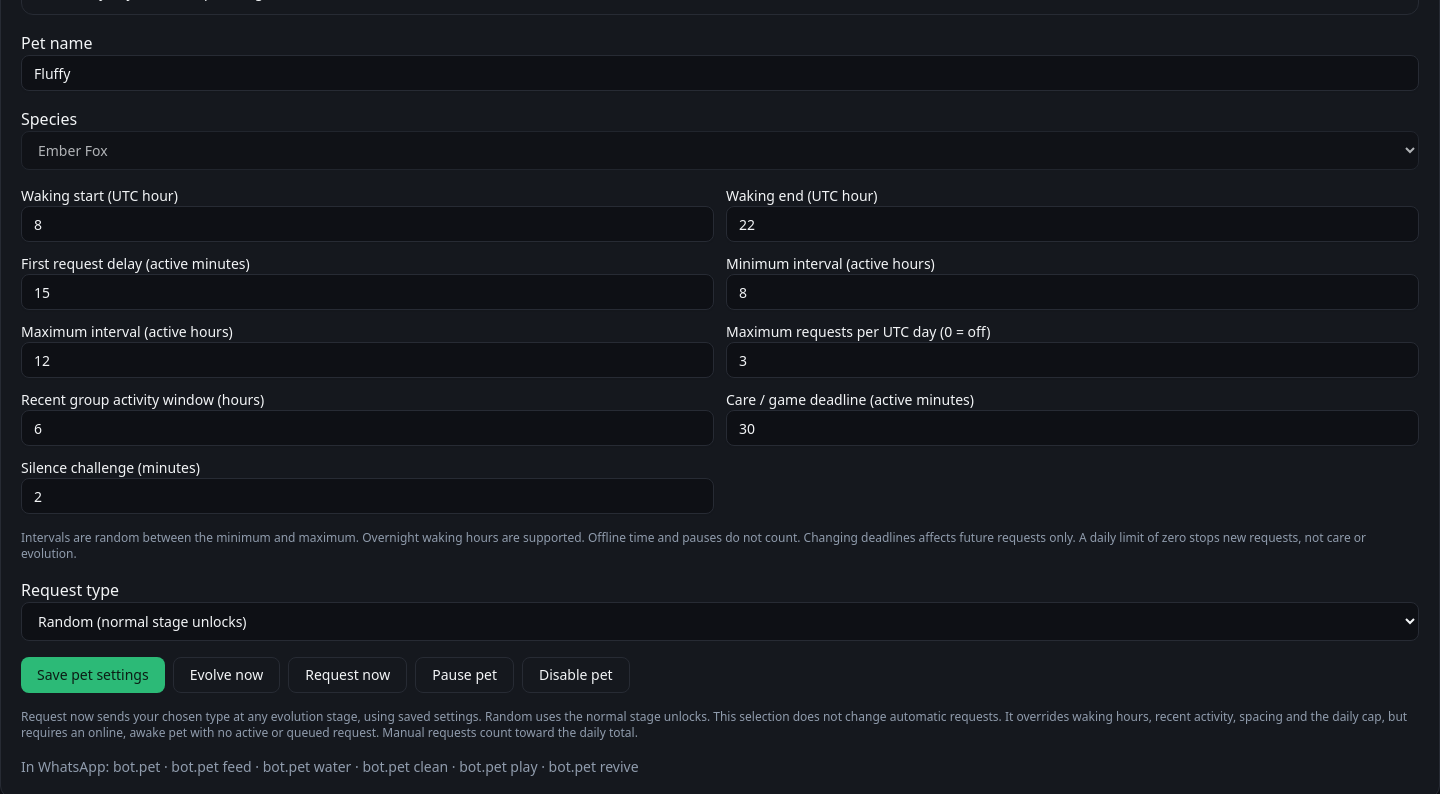
group pet editor › lets an egg issue the selected feed request
(page scrolled)
Select "Food" in the dropdown labelled "Request type" at (720, 622), box x1=21 y1=602 x2=1419 y2=641
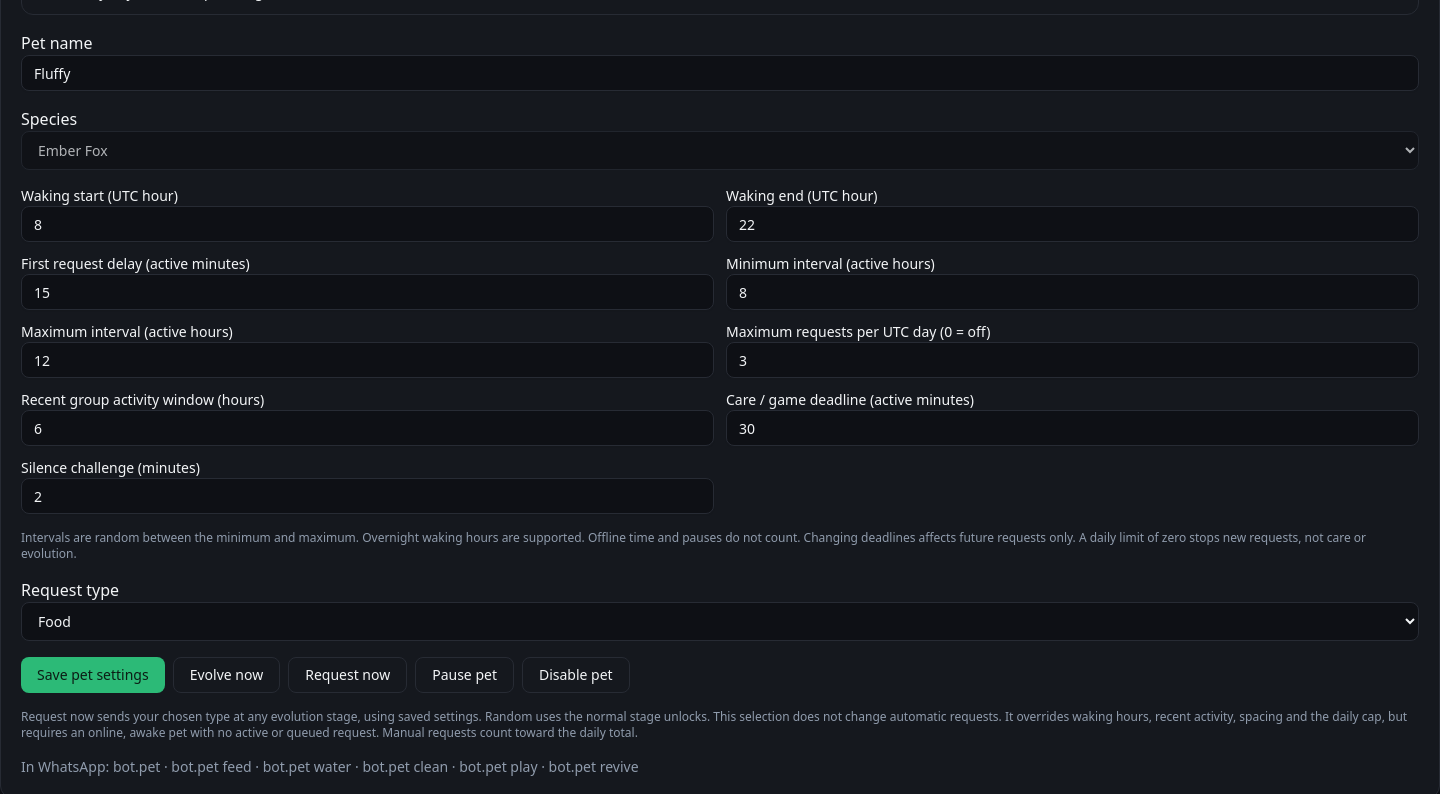
Click the button "Request now" at (348, 675), box x1=288 y1=657 x2=407 y2=693
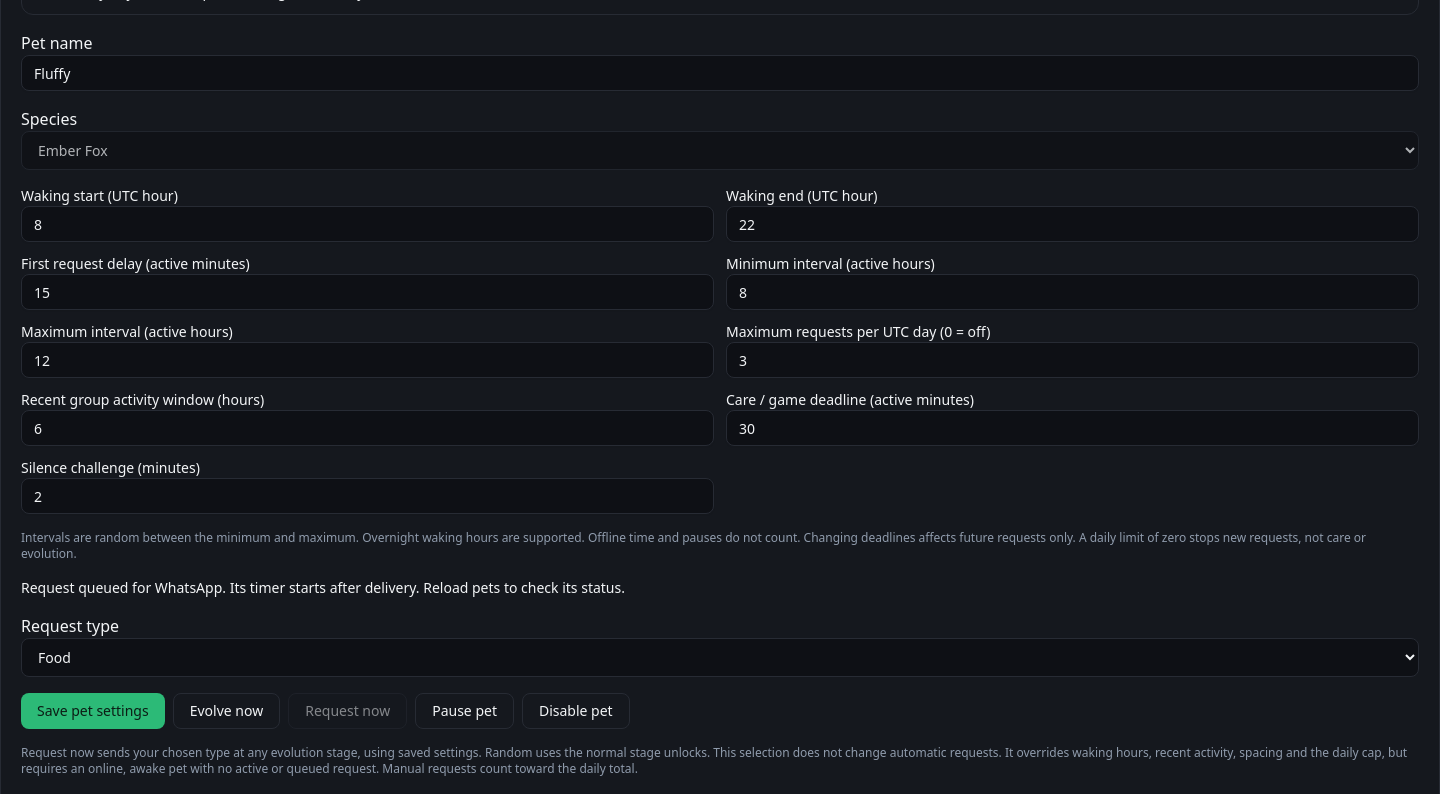
Expected: the message is shown, x1=21 y1=578 x2=625 y2=597
